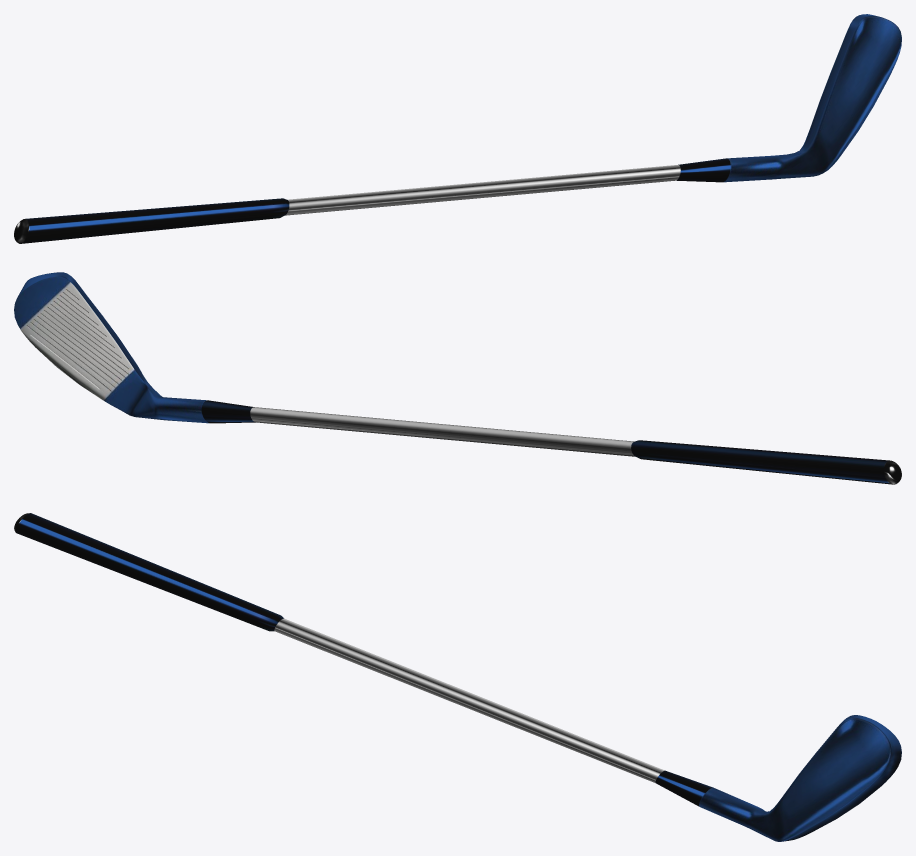
File: iron.glb
The picture shows the model from 3 angles, top to bottom: view 1: azimuth 30°, elevation 25°; view 2: azimuth 150°, elevation 25°; view 3: azimuth 330°, elevation 25°; orthographic projection. The views are drawn at different scales.
Parts seen in each view (by area): view 1: Material1-material-material; view 2: Material1-material-material; view 3: Material1-material-material.
Part boxes in pixels (<box>): Material1-material-material: <box>14,14,901,243</box>; Material1-material-material: <box>14,272,901,484</box>; Material1-material-material: <box>14,513,901,841</box>.
Bounding box in the file's own units: 0.9916 × 0.1531 × 0.0629.
1 material, 1 textured.
